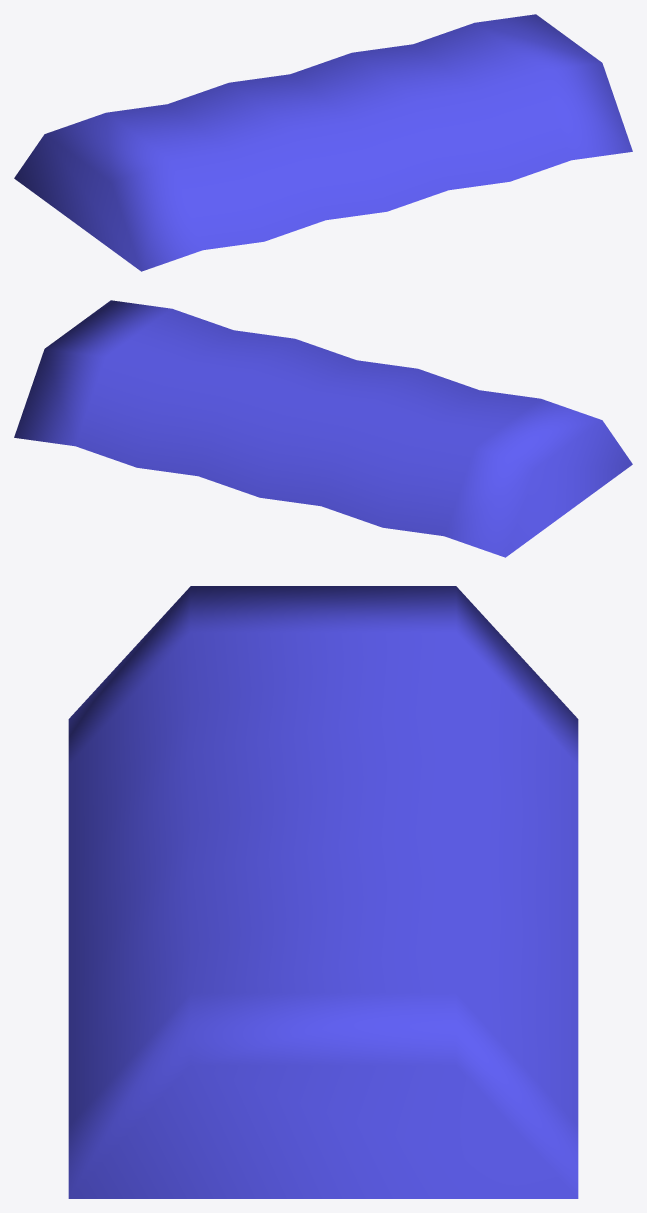
File: Building_A_13.fbx
3 views of the same model, one above another, from view 1: azimuth 30°, elevation 25°; view 2: azimuth 150°, elevation 25°; view 3: azimuth 270°, elevation 25° (orthographic). The views are drawn at different scales.
Visible parts, largest first — view 1: Building_A_13; view 2: Building_A_13; view 3: Building_A_13.
Boxes of the visible parts, left/top/right/bottom form: Building_A_13: left=14, top=14, right=632, bottom=271; Building_A_13: left=14, top=300, right=632, bottom=557; Building_A_13: left=68, top=586, right=578, bottom=1198.
Bounding box in the file's own units: 931 × 132 × 418.
